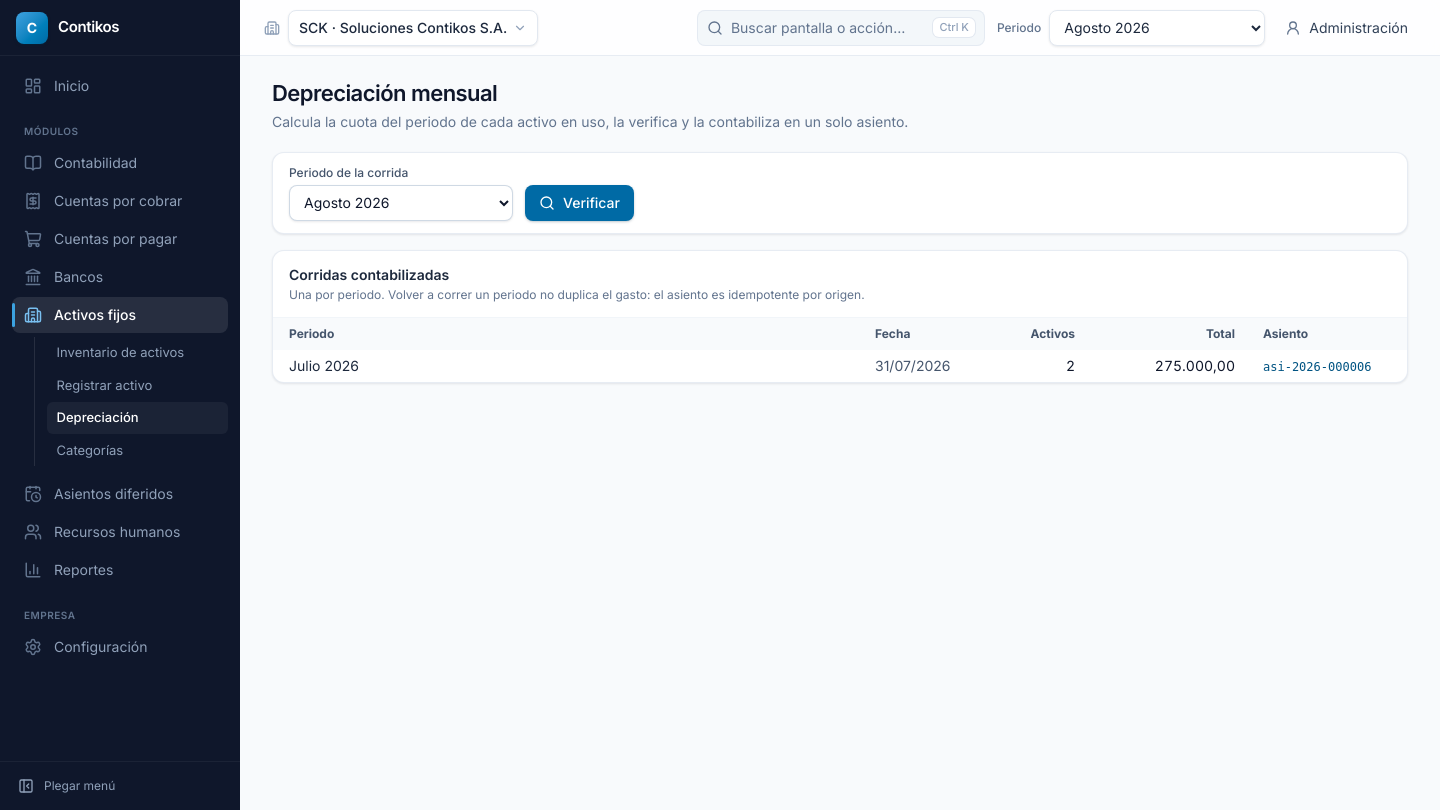
Test case: Depreciación de activos › previsualiza agosto de 2026 con sus líneas y sin bajar del residual
Expected: the dropdown labelled "Periodo de la corrida" shows "Agosto 2026", [289,184,513,220]
Click the button "Verificar".
click(579, 202)  # box [525,184,634,220]
(page scrolled)
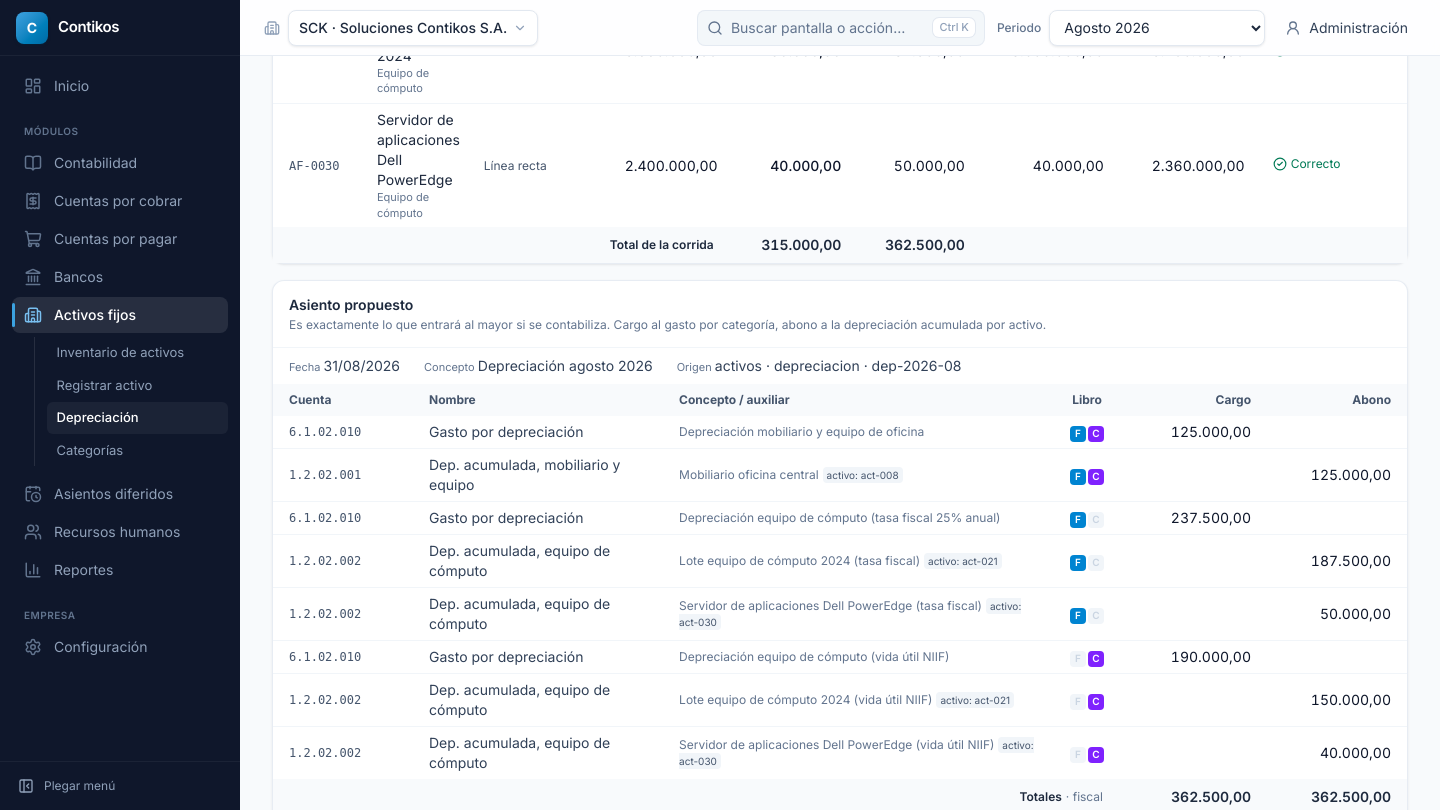
Expected: the text "Servidor de aplicaciones Dell PowerEdge" is shown, [377,110,460,190]
Expected: the 1st text "Gasto por depreciación" is shown, [417,416,667,449]
